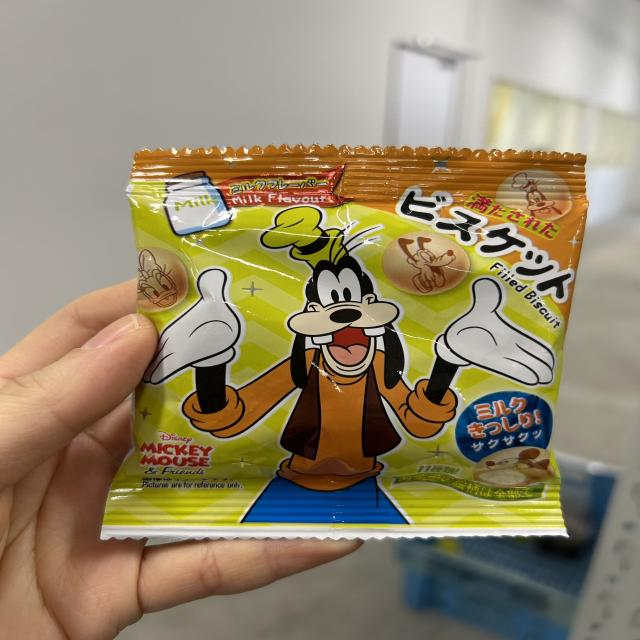object_name: (142, 151, 542, 533)
